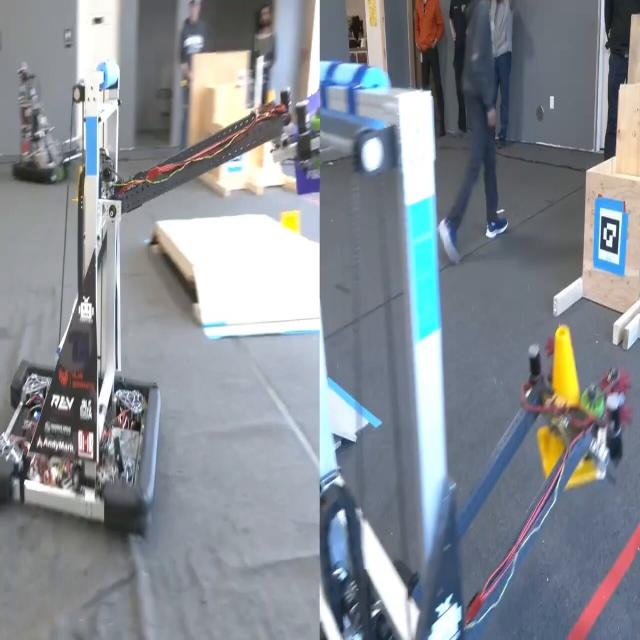frc_cone: (533, 321, 607, 498)
